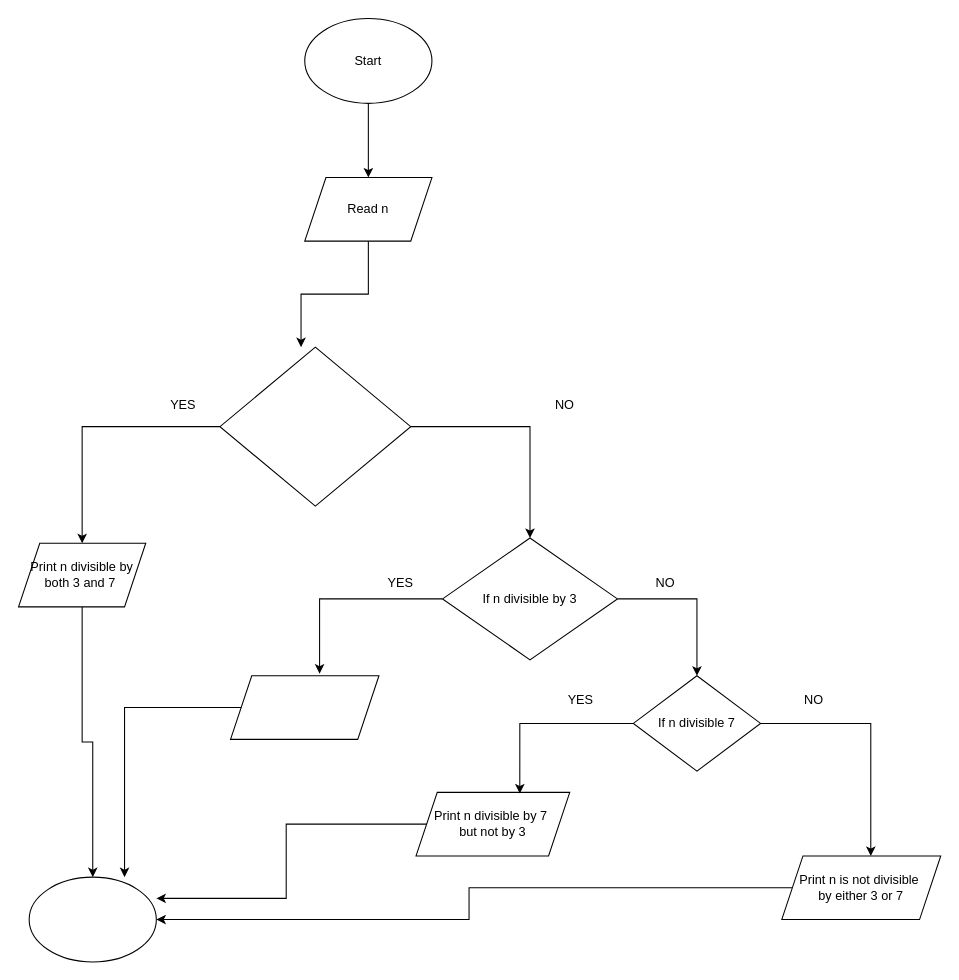
The diagram is 959 pixels wide and 980 high, and some of its shapes have lost their labels. The centre of each missing label's shape, as x and y in pixels:
"End" belongs at [92,919].
"If n divisible by both 3 and 7" belongs at [315,426].
"Print n divisible by 3 but not by 7" belongs at [304,707].
